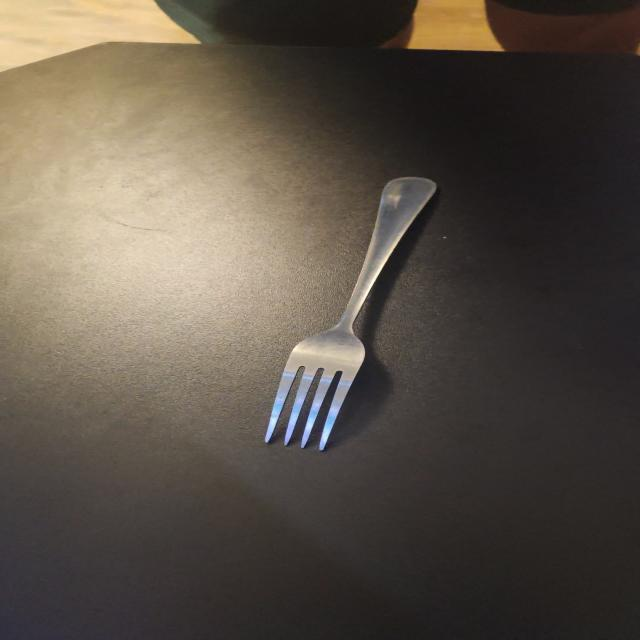plastic utensil: (264, 178, 436, 450)
